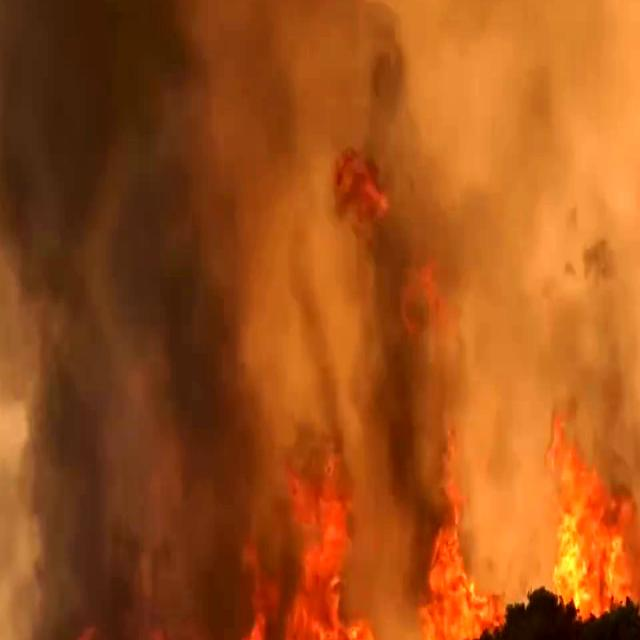fire: (200, 430, 359, 640), (518, 403, 640, 638), (416, 483, 484, 640), (39, 608, 195, 640)
smoke: (0, 0, 127, 592)
